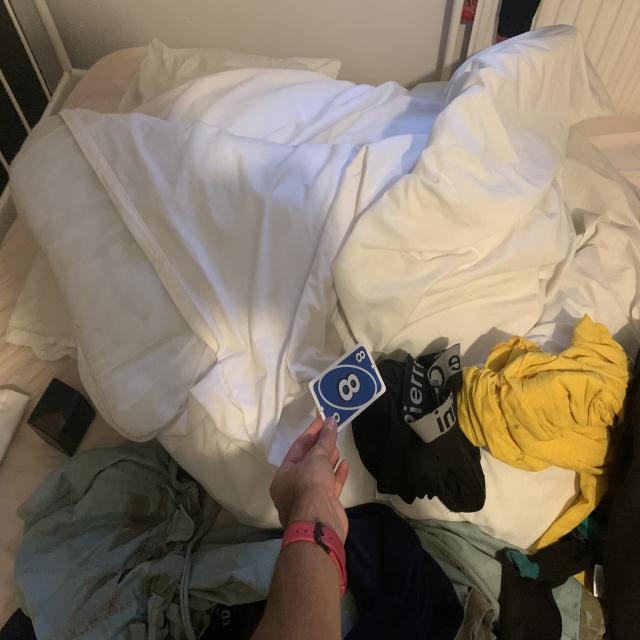lblue-8: (352, 347, 366, 366)
